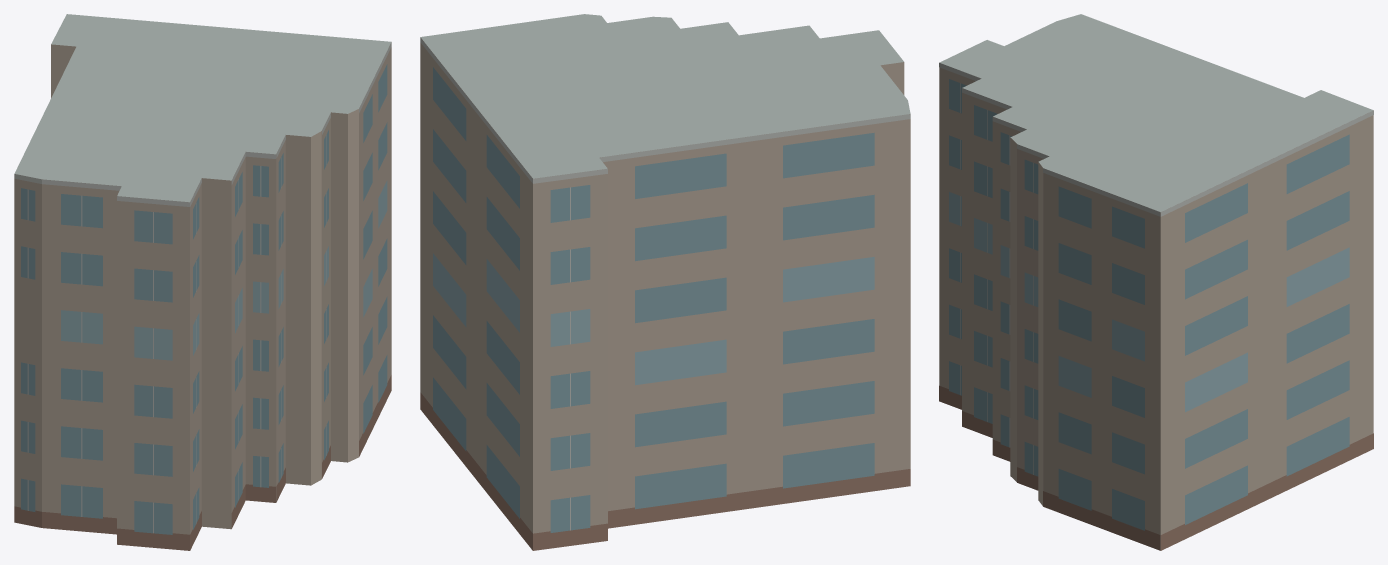
The model's file is survey-upis-32913357.glb.
3 renders of one model, left to right at view 1: azimuth 30°, elevation 25°; view 2: azimuth 150°, elevation 25°; view 3: azimuth 270°, elevation 25°, orthographic. The views are drawn at different scales.
Visible parts, largest first — view 1: survey-upis-32913357.tmp; view 2: survey-upis-32913357.tmp; view 3: survey-upis-32913357.tmp.
Part boxes in pixels (<box>): survey-upis-32913357.tmp: <box>14,14,391,550</box>; survey-upis-32913357.tmp: <box>420,14,910,550</box>; survey-upis-32913357.tmp: <box>939,14,1373,550</box>.
Bounding box in the file's own units: 22.23 × 17.7 × 20.59.
